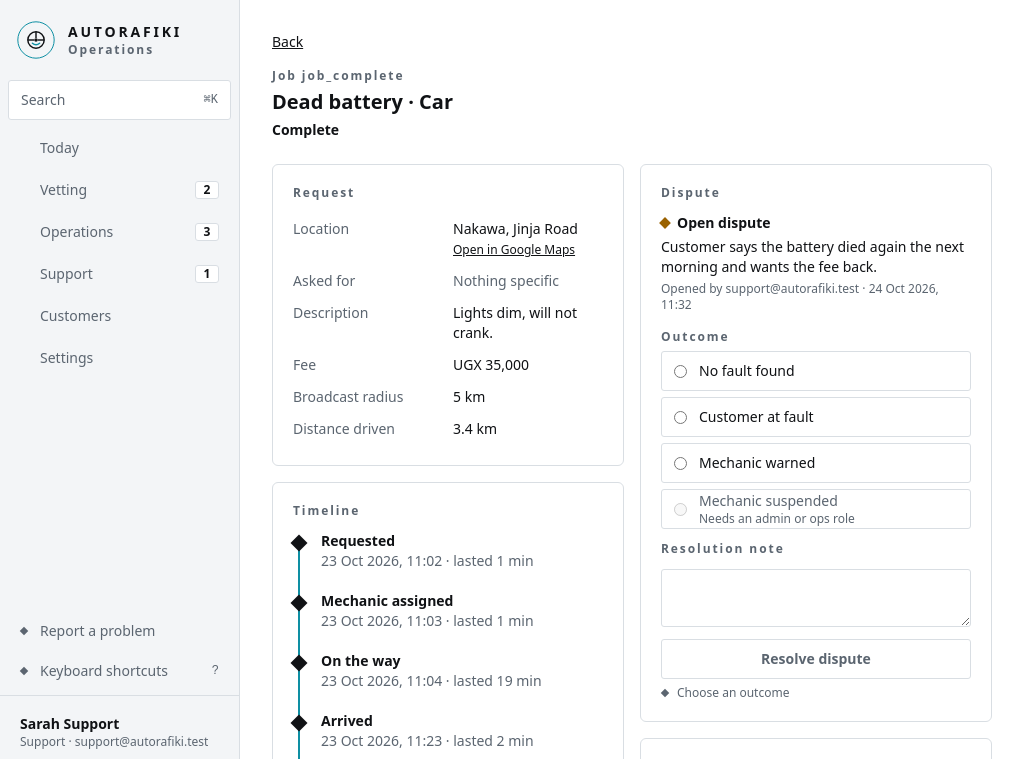
Test: disputes › support resolves a dispute but cannot pick the suspension outcome
Expected: the radio button labelled "Mechanic suspended Needs an admin or ops role" is disabled, [674,502,687,516]
Expected: the text "Needs an admin or ops role" is shown, [699,511,855,527]
Click the radio button labelled "Mechanic warned".
click(680, 463)  # box [674,456,687,470]
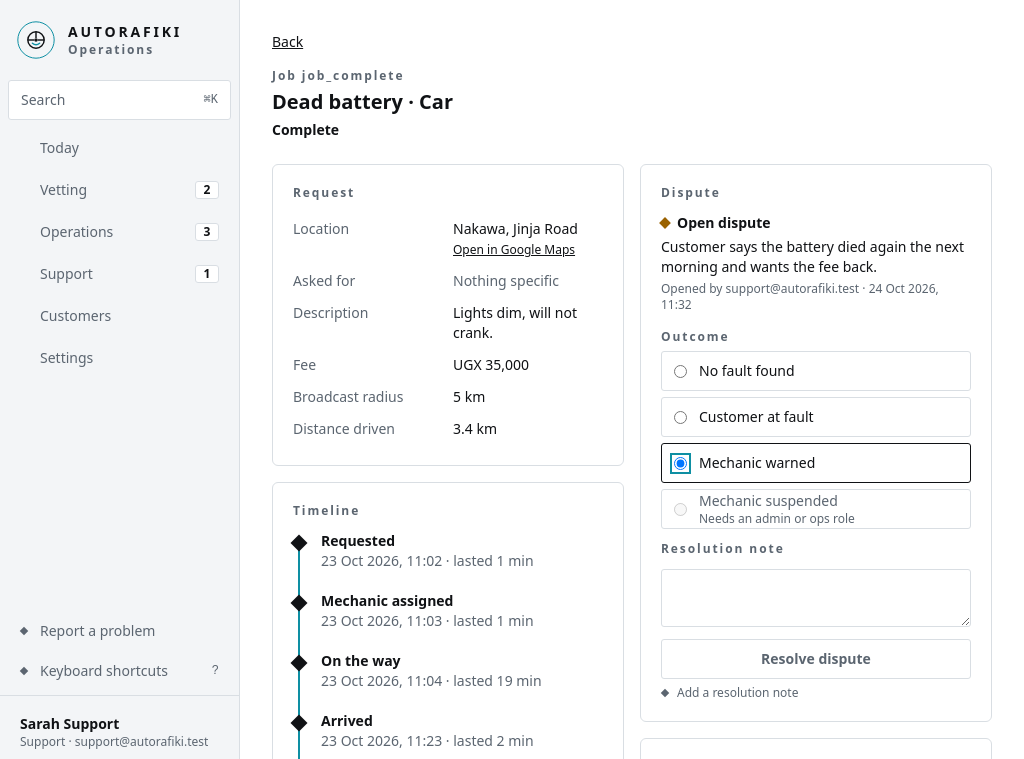
Type "Warned about explaining the work" into the text box labelled "Resolution note".
click(816, 598); type("Warned about explaining the work")  # box [661,569,971,627]
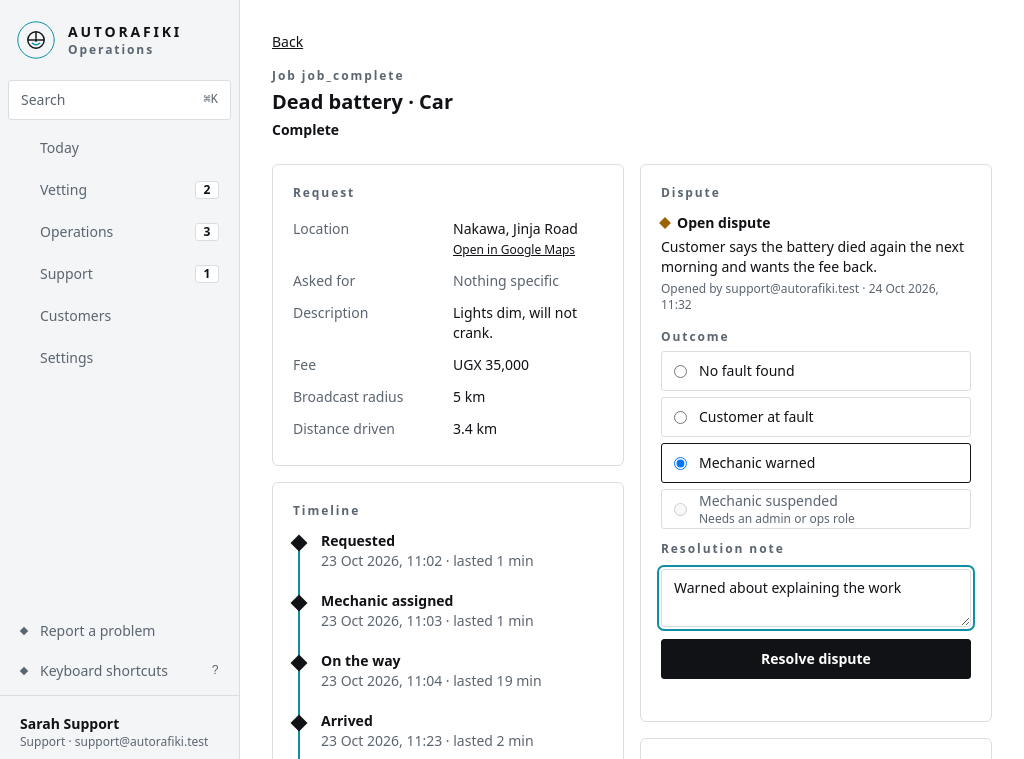
Click the button "Resolve dispute".
click(816, 659)  # box [661,639,971,679]
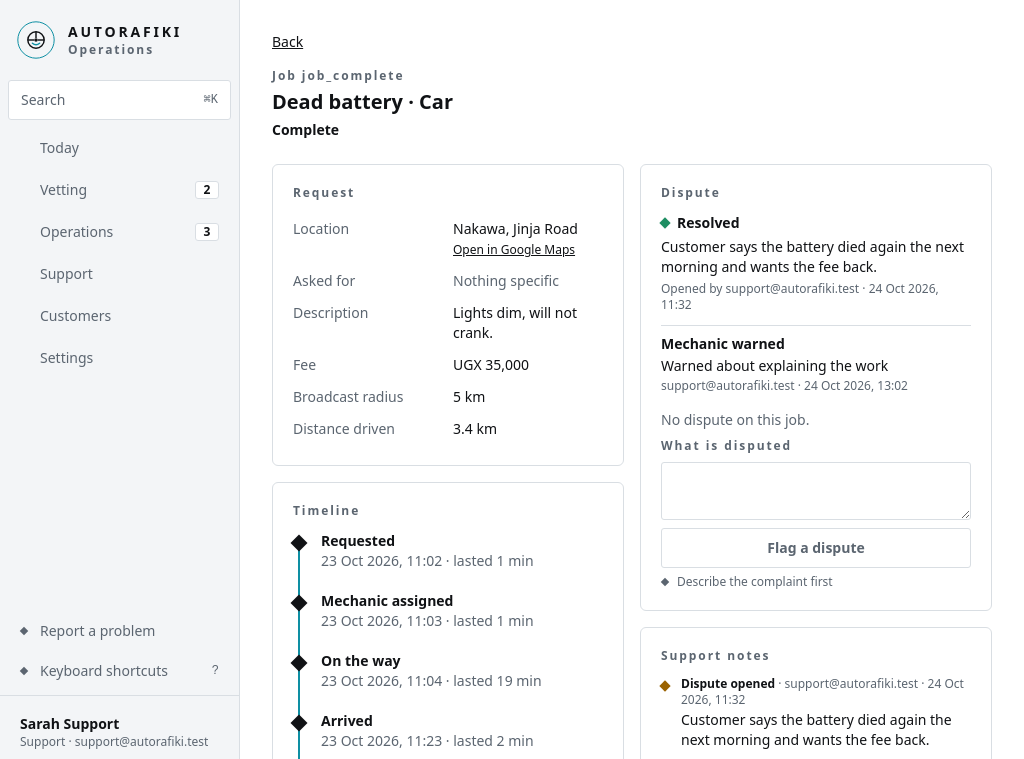
Now the text "Resolved" is shown, box [659,213,740,232]
Now the form "Flag a dispute" is shown, box [661,410,971,590]
